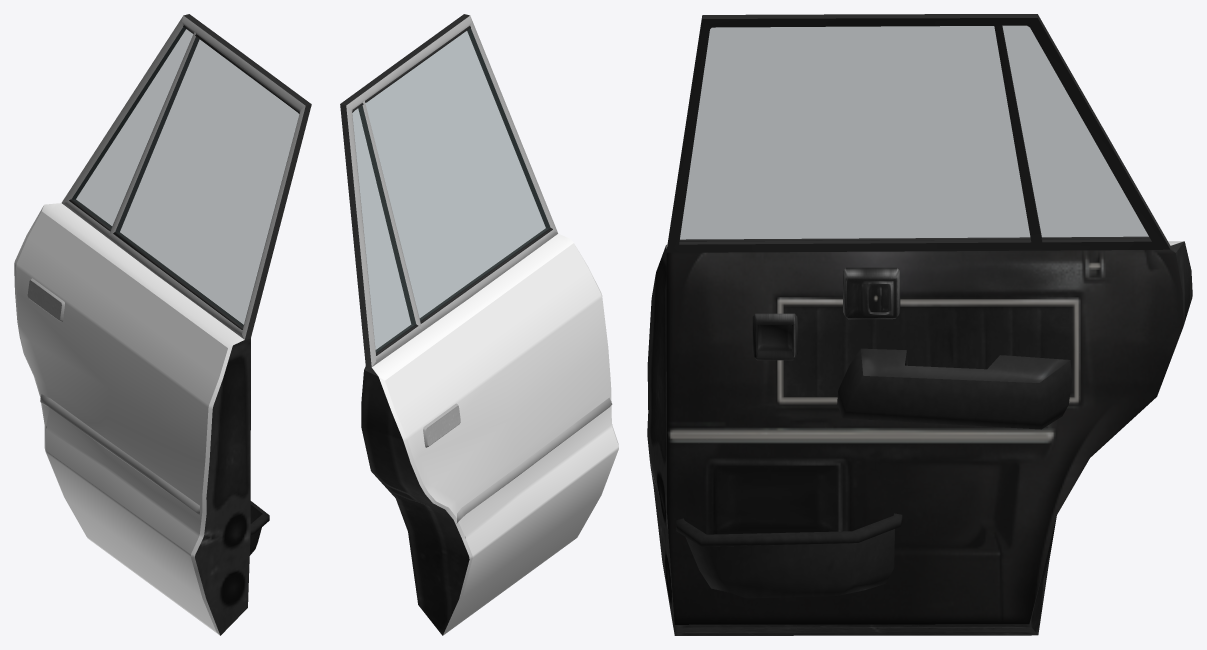
Rendered from DoorRL.obj.
The picture shows the model from 3 angles, left to right: view 1: azimuth 30°, elevation 25°; view 2: azimuth 150°, elevation 25°; view 3: azimuth 270°, elevation 25°; orthographic projection. The views are drawn at different scales.
Parts seen in each view (by area): view 1: Door_RR; view 2: Door_RR; view 3: Door_RR.
Boxes of the visible parts, x1=… form: Door_RR: x1=14, y1=14, x2=311, y2=635; Door_RR: x1=340, y1=14, x2=618, y2=635; Door_RR: x1=647, y1=14, x2=1192, y2=635.
Size of the model in its own units: 6.07 by 21.17 by 15.26.
